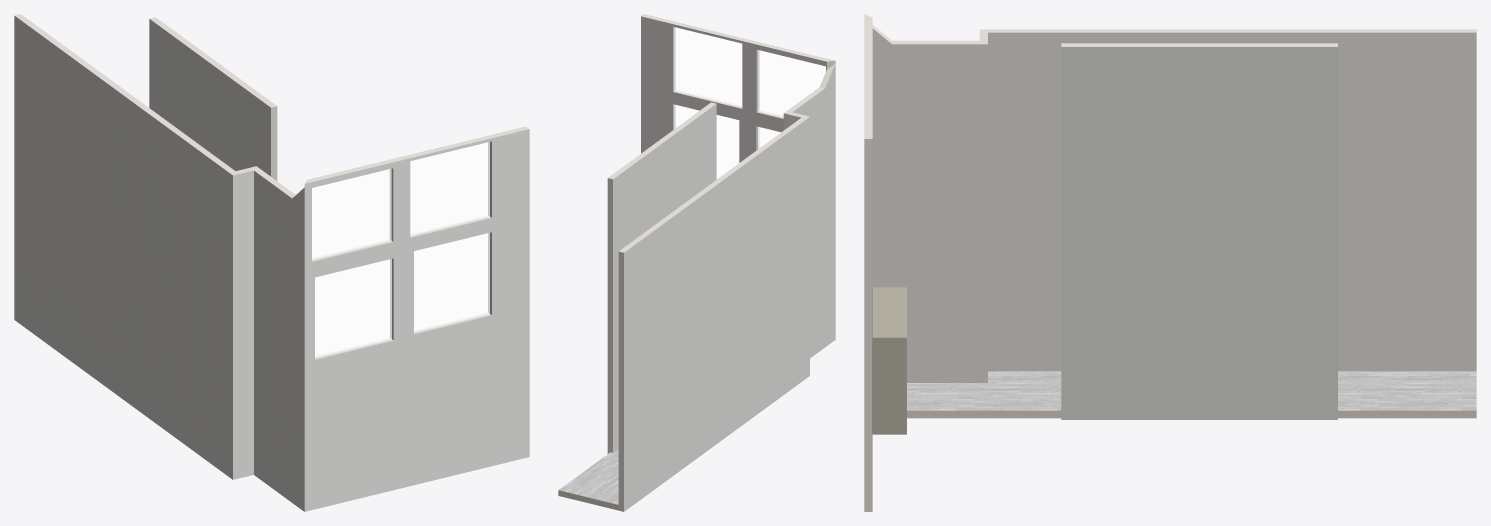
Rendered from LibraryStair.glb.
3 views of the same model, side by side, from view 1: azimuth 30°, elevation 25°; view 2: azimuth 150°, elevation 25°; view 3: azimuth 270°, elevation 25° (orthographic). The views are drawn at different scales.
Parts seen in each view (by area): view 1: wall_2, wall_0, wall_3, wall_13, wall_1, window_0, window_4, window_2, window_6, window_1, window_5, window_3 (+4 smaller); view 2: wall_2, wall_13, wall_5, wall_3, window_1, window_5, window_3, window_7, wall_10, wall_14, floor_Other, wall_6 (+6 smaller); view 3: wall_4, wall_9, wall_11, floor_Other, storage_shelf0, wall_6, floor_Other_2, wall_10, joint_3, wall_14.
Boxes of the visible parts, bbox=[...] form: wall_2: bbox=[14, 16, 232, 479]; wall_0: bbox=[304, 129, 529, 511]; wall_3: bbox=[254, 171, 304, 511]; wall_13: bbox=[149, 19, 270, 176]; wall_1: bbox=[233, 170, 253, 479]; window_0: bbox=[315, 259, 391, 357]; window_4: bbox=[315, 259, 391, 357]; window_2: bbox=[414, 233, 489, 331]; window_6: bbox=[414, 233, 489, 331]; window_1: bbox=[410, 142, 489, 235]; window_5: bbox=[410, 142, 489, 235]; window_3: bbox=[312, 169, 391, 259]; wall_2: bbox=[624, 117, 809, 511]; wall_13: bbox=[613, 104, 716, 452]; wall_5: bbox=[641, 16, 826, 162]; wall_3: bbox=[793, 64, 835, 358]; window_1: bbox=[674, 27, 741, 106]; window_5: bbox=[674, 27, 741, 106]; window_3: bbox=[758, 50, 825, 116]; window_7: bbox=[758, 50, 825, 116]; wall_10: bbox=[618, 116, 809, 511]; wall_14: bbox=[607, 102, 715, 453]; floor_Other: bbox=[559, 449, 618, 504]; wall_6: bbox=[641, 14, 834, 150]; wall_4: bbox=[1061, 47, 1337, 419]; wall_9: bbox=[988, 32, 1476, 371]; wall_11: bbox=[872, 28, 987, 382]; floor_Other: bbox=[907, 371, 1476, 410]; storage_shelf0: bbox=[872, 287, 906, 434]; wall_6: bbox=[864, 14, 872, 511]; floor_Other_2: bbox=[907, 410, 1476, 418]; wall_10: bbox=[980, 29, 1476, 32]; joint_3: bbox=[864, 139, 872, 511]; wall_14: bbox=[1061, 43, 1337, 46].
Size of the model in its own units: 3.84 by 4.89 by 7.28.
Materials: 16 (1 with a texture image).
